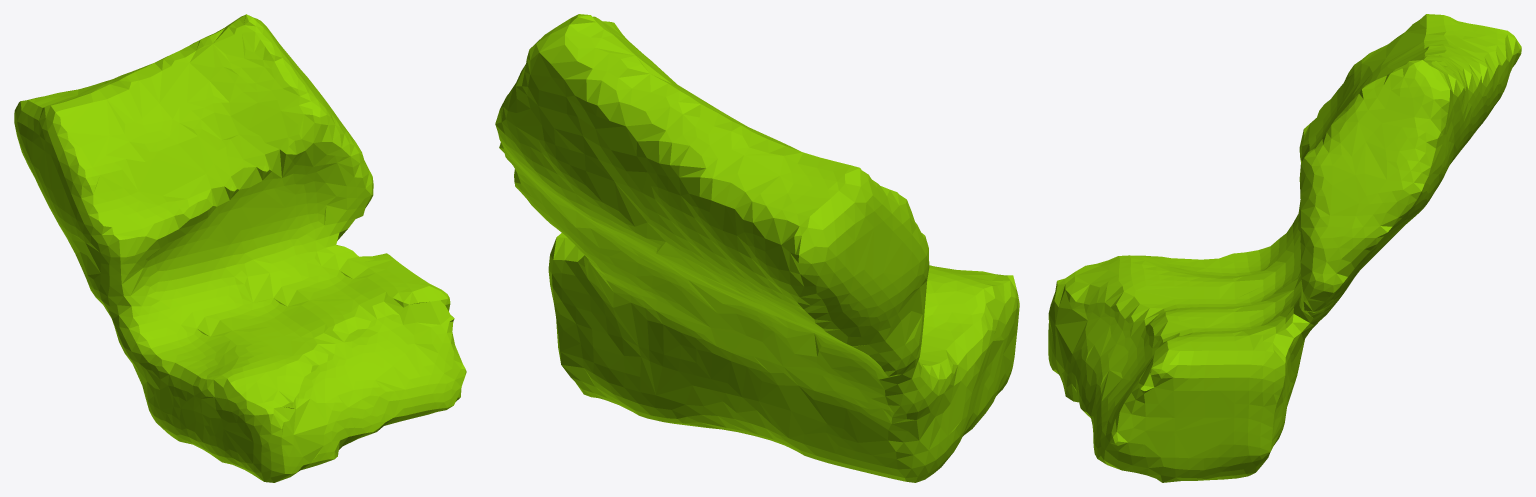
The model's file is Model_10079_LH__Auditory_cortex__caudal_parabelt_area_(AuCPB).obj.
The picture shows the model from 3 angles, left to right: view 1: azimuth 30°, elevation 25°; view 2: azimuth 150°, elevation 25°; view 3: azimuth 270°, elevation 25°; orthographic projection. The views are drawn at different scales.
Bounding box in the file's own units: 2.64 × 2.84 × 3.19.
